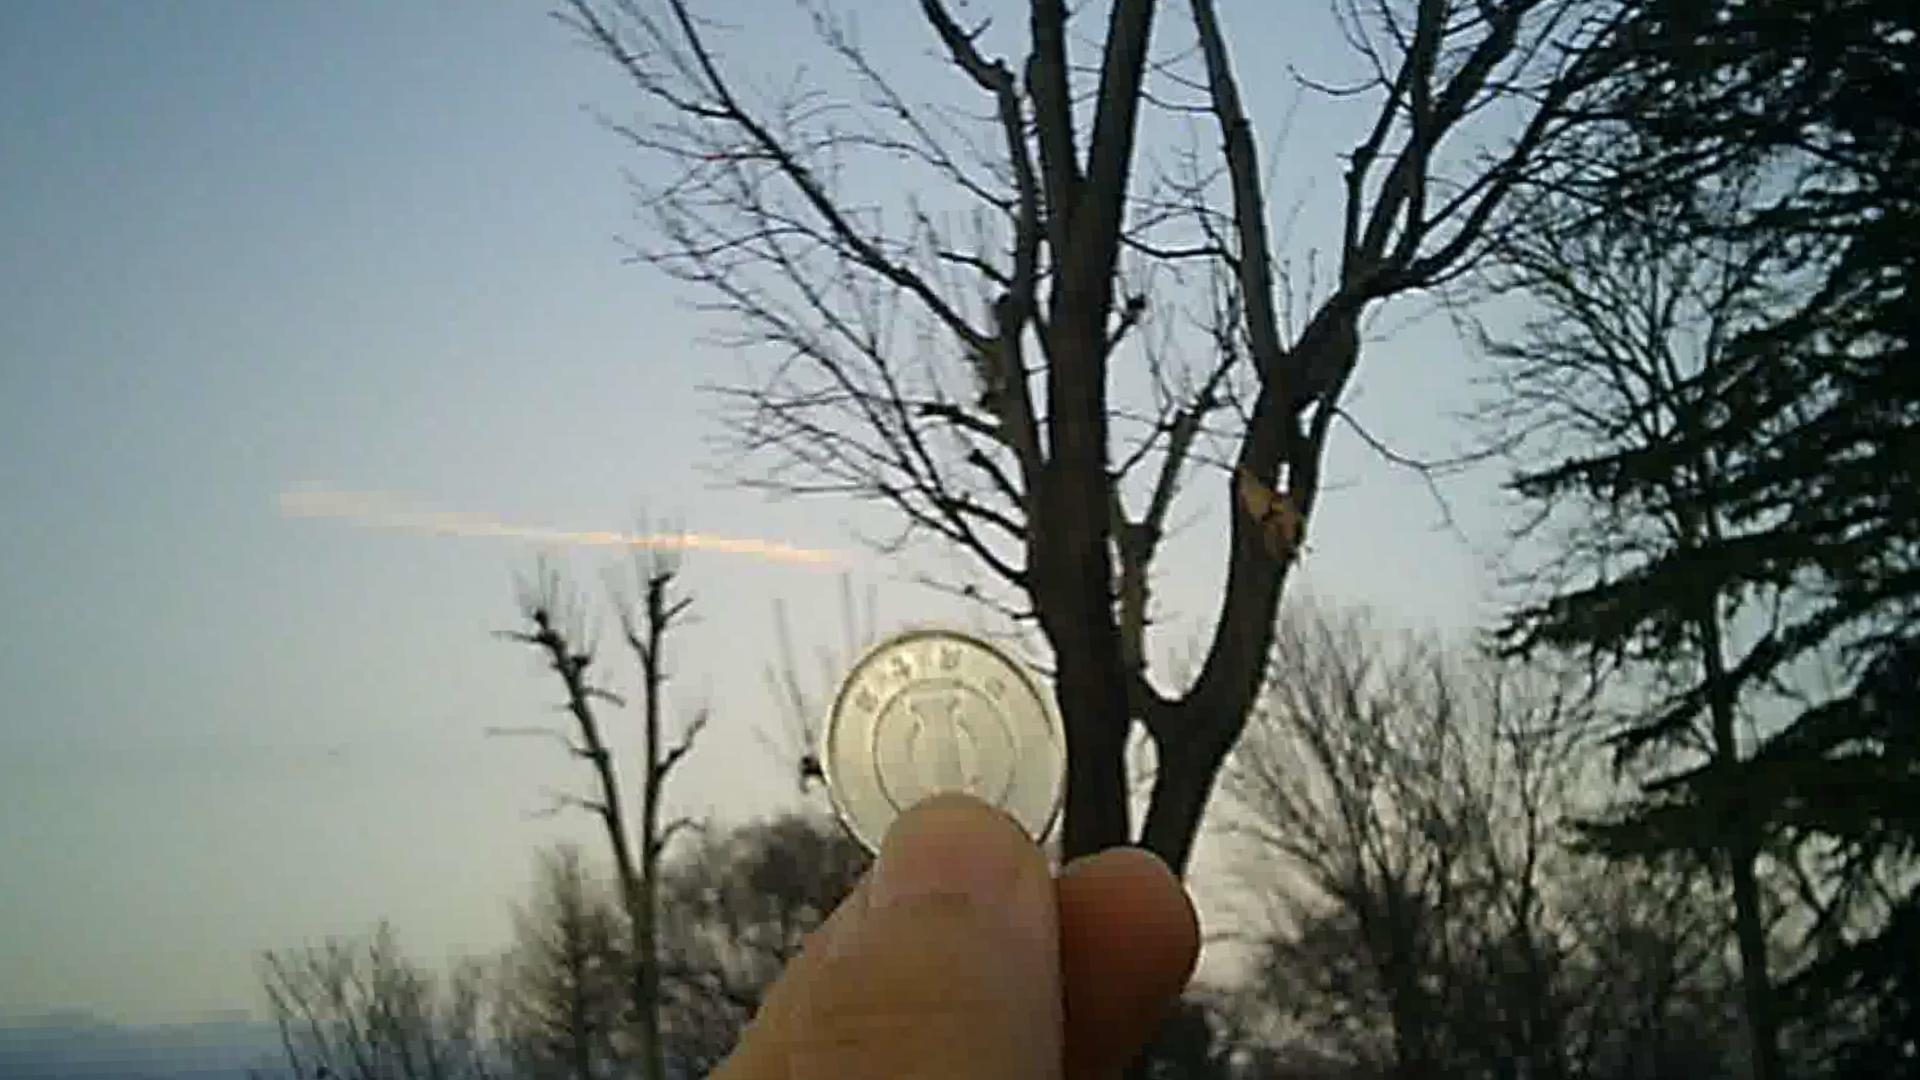1 Yen: (818, 630, 1072, 880)
